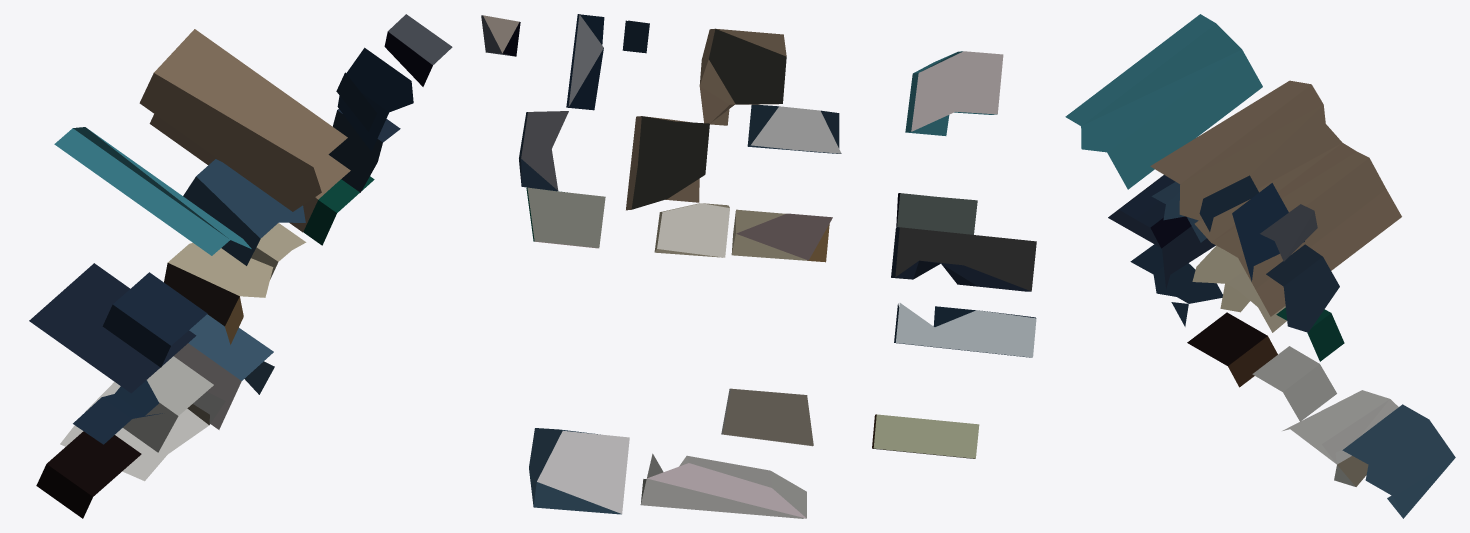
The picture shows the model from 3 angles, left to right: view 1: azimuth 30°, elevation 25°; view 2: azimuth 150°, elevation 25°; view 3: azimuth 270°, elevation 25°; orthographic projection. The views are drawn at different scales.
Bounding box in the file's own units: 95.32 × 86.86 × 76.68.
